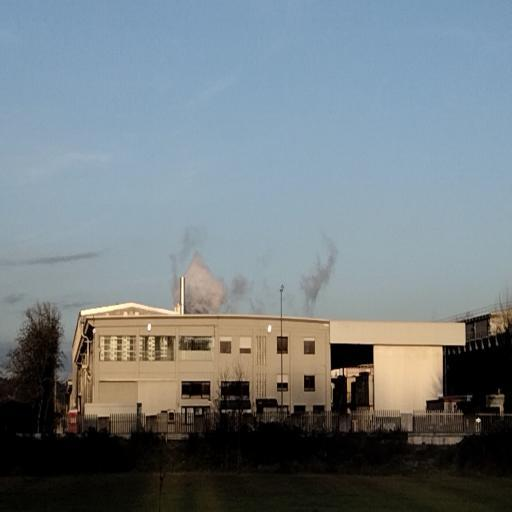leakage: (168, 227, 276, 319)
